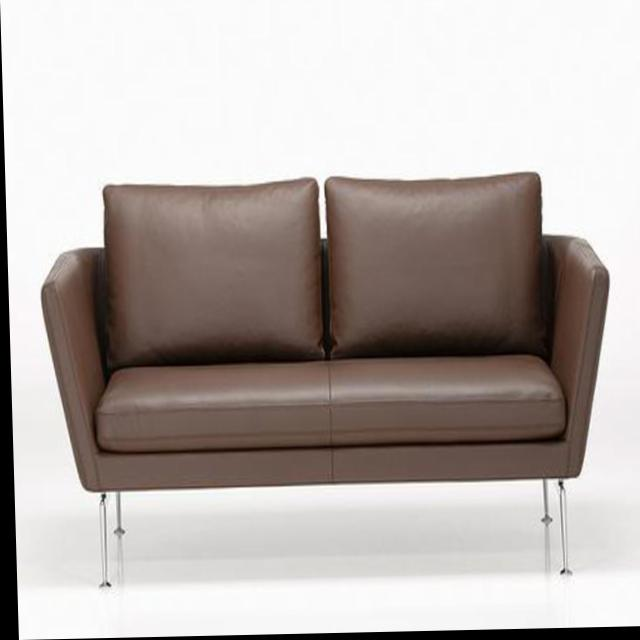Sofa: (37, 173, 615, 586)
